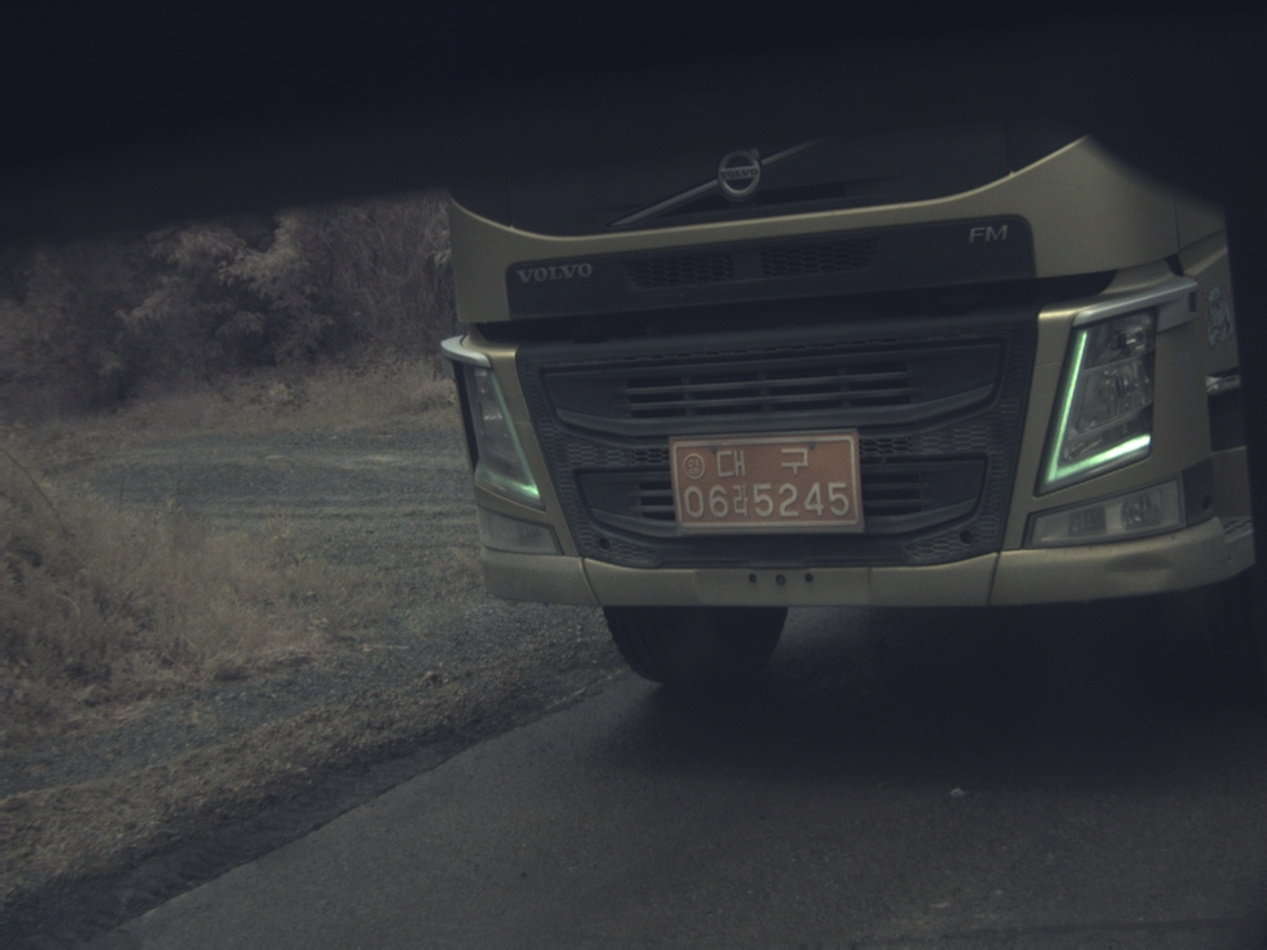license_plate: (671, 432, 864, 531)
truck: (445, 122, 1252, 681)
